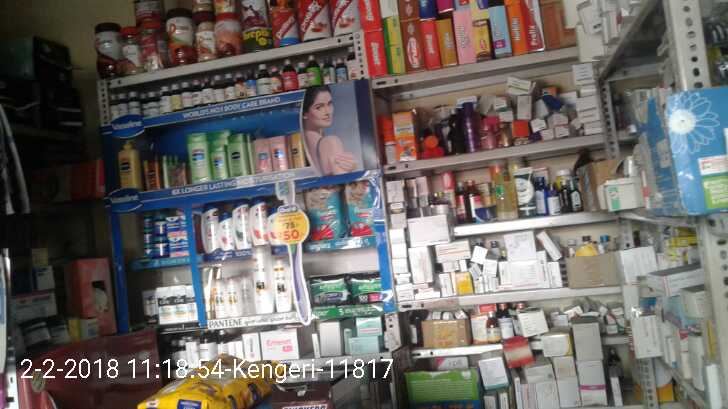beauty: (209, 270, 243, 321), (195, 197, 216, 261), (250, 251, 271, 315), (250, 191, 271, 250), (274, 252, 292, 310), (216, 207, 234, 252), (173, 284, 195, 320), (236, 194, 248, 255), (156, 285, 171, 325)
pharmacy: (306, 183, 342, 240), (343, 178, 374, 237), (304, 273, 348, 303), (348, 271, 382, 307), (140, 212, 156, 264), (166, 234, 192, 257), (164, 215, 187, 234)
